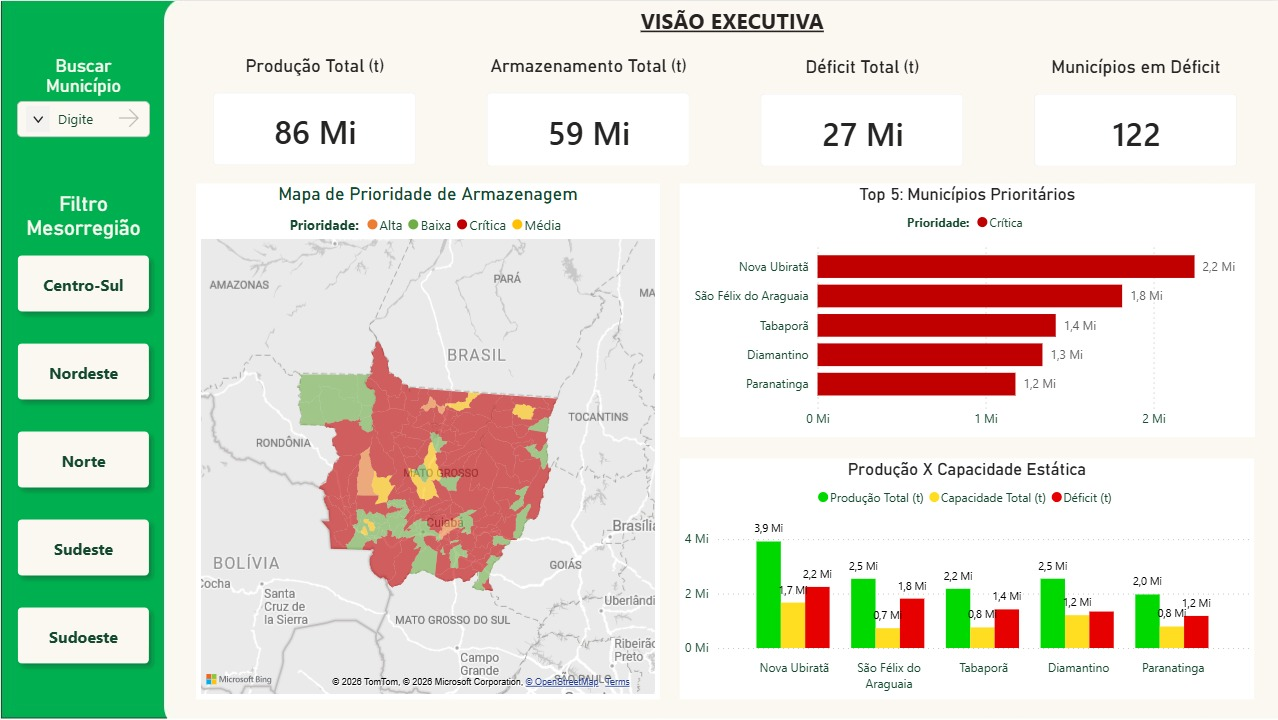

Layout of this report page (visuals, bound fields, positions):
{"tool":"powerbi","page":{"name":"Visão Executiva","canvas":[1280,720],"ordinal":0},"visuals":[{"type":"cardVisual","title":"Produção Total (t)","fields":{"Data":["Medidas.Produção Total (t)"]},"box":[195.3,53.5,237.2,127.9],"z":0},{"type":"cardVisual","title":"Armazenamento Total (t)","fields":{"Data":["Medidas.Capacidade Total (t)"]},"box":[469,53.5,237.2,129.1],"z":1000},{"type":"cardVisual","title":"Déficit Total (t)","fields":{"Data":["Medidas.Déficit Positivo (t)"]},"box":[742.6,54.7,237.2,127.9],"z":2000},{"type":"cardVisual","title":"Municípios em Déficit","fields":{"Data":["Medidas.Municípios com Déficit"]},"box":[1016.2,55,237.5,128.8],"z":3000},{"type":"filledMap","title":"Mapa de Prioridade de Armazenagem","fields":{"Category":["Dim_Municipio.Pais Hierarquia.Pais","Dim_Municipio.Pais Hierarquia.UF","Dim_Municipio.Pais Hierarquia.Municipio"],"Series":["Dim_Municipio.Prioridade (Coluna)"]},"box":[195.3,182.6,464,515.1],"z":4000},{"type":"barChart","title":"Top 5: Municípios Prioritários","fields":{"Category":["Dim_Municipio.Municipio"],"Y":["Medidas.Déficit Positivo (t)"],"Series":["Dim_Municipio.Prioridade (Coluna)"]},"box":[678.8,182.5,575,253.8],"z":5000},{"type":"advancedSlicerVisual","title":"Filtro Mesorregião","fields":{"Values":["Dim_Municipio.Mesorregiao"]},"box":[0,191.2,165,490],"z":6000},{"type":"textSlicer","title":"Buscar Município","fields":{"Values":["Dim_Municipio.Municipio"]},"box":[11.2,53.8,142.5,87.5],"z":7000},{"type":"clusteredColumnChart","title":"Produção X Capacidade Estática","fields":{"Category":["Dim_Municipio.Municipio"],"Y":["Medidas.Produção Total (t)","Medidas.Capacidade Total (t)","Medidas.Déficit Positivo (t)"]},"box":[679.1,457,574.4,240.7],"z":8000},{"type":"textbox","box":[530,0,402.5,55],"z":9000}]}

Visuals, with their boxes in screenshot pixels (x1, y1, x2, y2), scaled from the page's 1280x720 canvas onto the 1278x720 screenshot:
"Produção Total (t)" cardVisual: l=195, t=54, r=432, b=181
"Armazenamento Total (t)" cardVisual: l=468, t=54, r=705, b=183
"Déficit Total (t)" cardVisual: l=741, t=55, r=978, b=183
"Municípios em Déficit" cardVisual: l=1015, t=55, r=1252, b=184
"Mapa de Prioridade de Armazenagem" filledMap: l=195, t=183, r=658, b=698
"Top 5: Municípios Prioritários" barChart: l=678, t=182, r=1252, b=436
"Filtro Mesorregião" advancedSlicerVisual: l=0, t=191, r=165, b=681
"Buscar Município" textSlicer: l=11, t=54, r=153, b=141
"Produção X Capacidade Estática" clusteredColumnChart: l=678, t=457, r=1252, b=698
textbox: l=529, t=0, r=931, b=55
